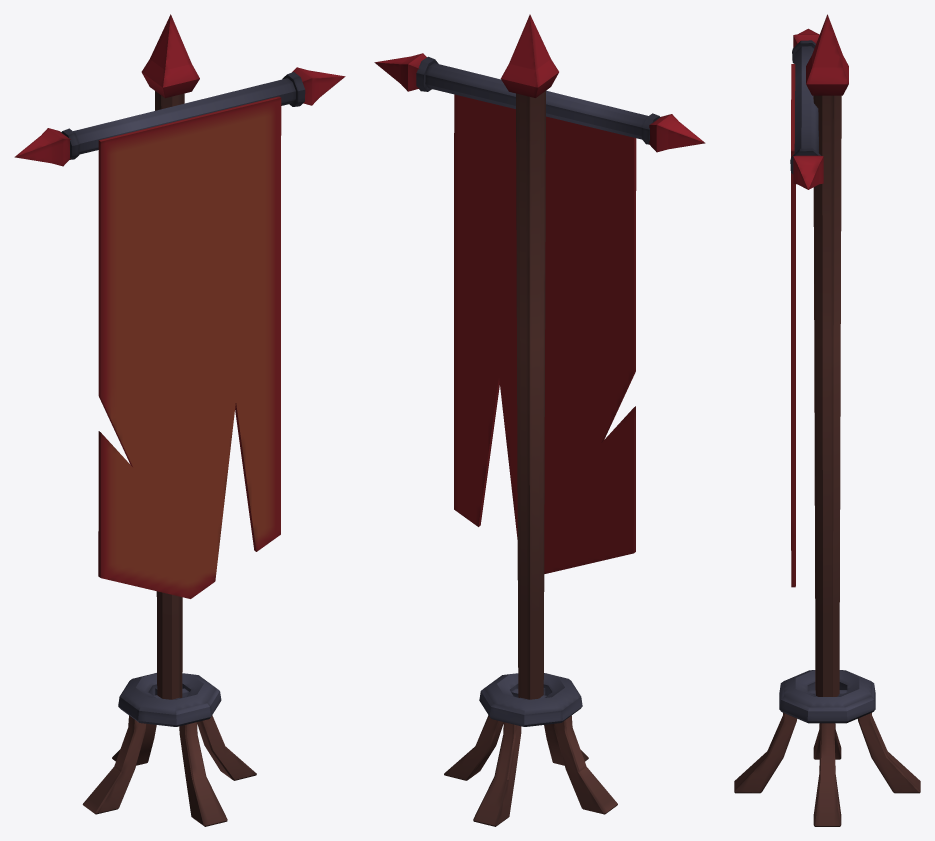
File: Bandeira3.fbx
The picture shows the model from 3 angles, left to right: view 1: azimuth 30°, elevation 25°; view 2: azimuth 150°, elevation 25°; view 3: azimuth 270°, elevation 25°; orthographic projection.
Parts seen in each view (by area): view 1: Bandeira 3.001; view 2: Bandeira 3.001; view 3: Bandeira 3.001.
Part boxes in pixels (x1,y1,x2,y2): Bandeira 3.001: (14,14,345,826); Bandeira 3.001: (374,14,705,826); Bandeira 3.001: (734,14,920,826).
Size of the model in its own units: 81.7 by 183 by 39.85.
